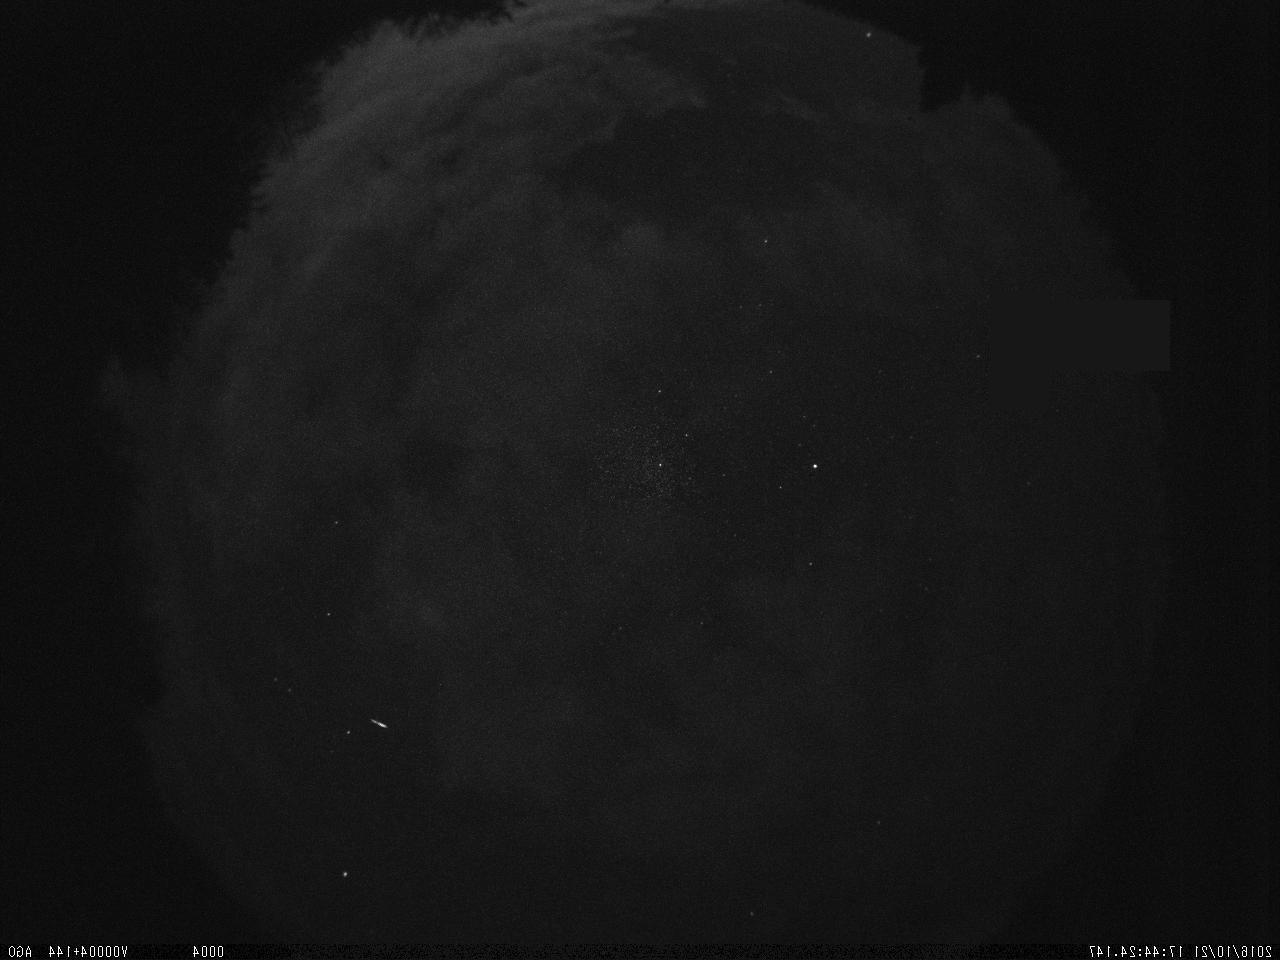meteor: (358, 715, 395, 734)
